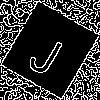J: (24, 25, 71, 78)
